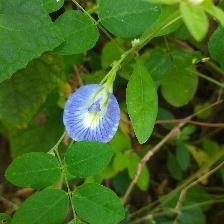shankupushpam: (65, 50, 123, 146)
